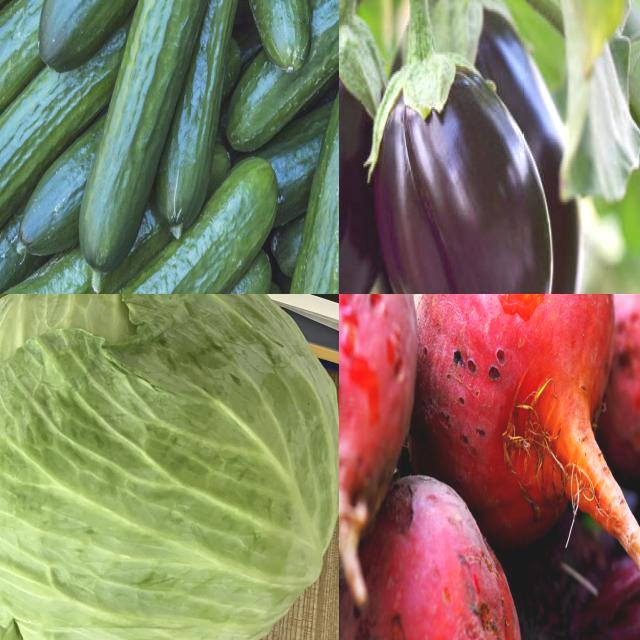beet: (413, 295, 613, 526), (340, 474, 523, 640), (340, 295, 418, 571), (598, 295, 640, 474)
cabbage: (1, 295, 340, 640)
cucumber: (77, 1, 251, 279), (1, 155, 283, 295), (1, 17, 123, 270), (158, 1, 249, 237), (276, 43, 340, 295), (1, 1, 105, 136), (34, 1, 202, 73), (241, 1, 312, 70)
eggplant: (375, 36, 552, 295), (340, 10, 393, 295)
